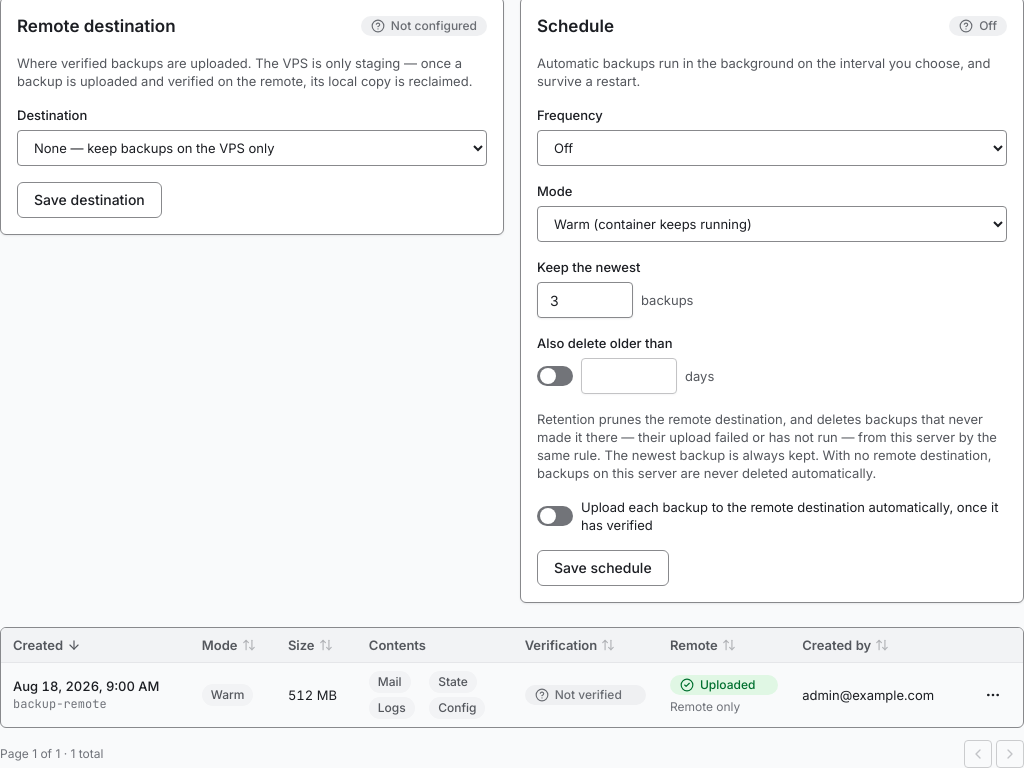
BackupsPage — Delete is tier 3 (§8) › says the remote copy goes too, every version included, for an uploaded backup
(page scrolled)
Check: the text "backup-remote" is shown, box [13,696,107,712]
Click the button named "Actions for backup backup-remote" at (993, 695), box [975,677,1011,713]
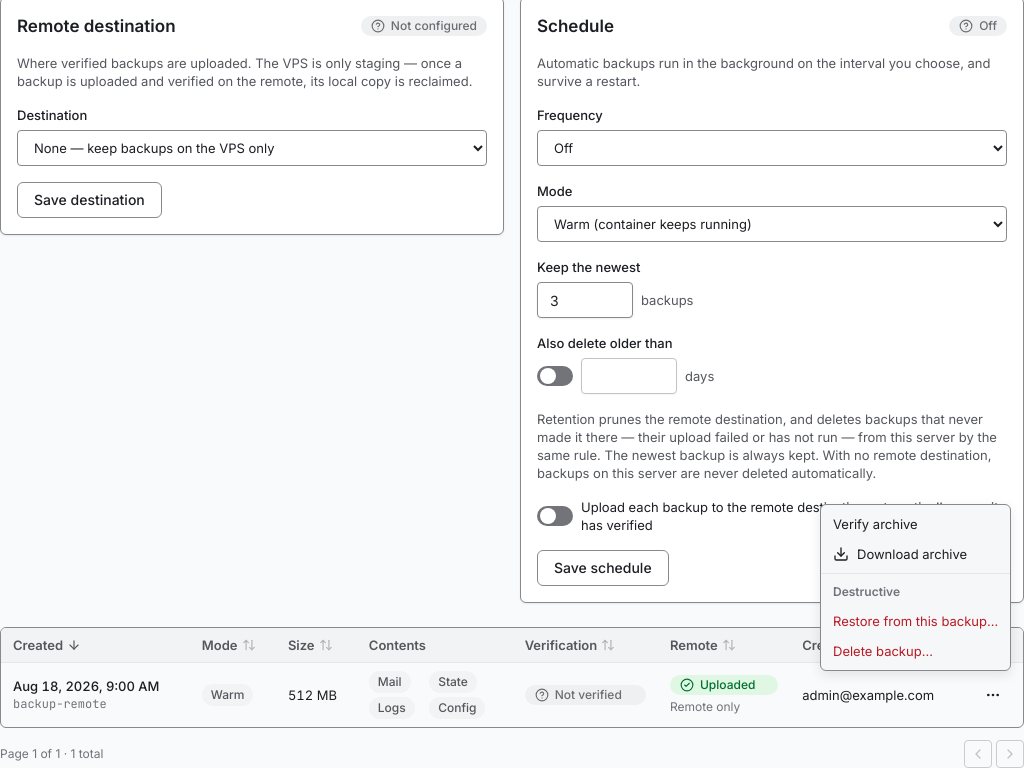
Click the menu item "Delete backup…" at (883, 651), box [833,643,933,659]
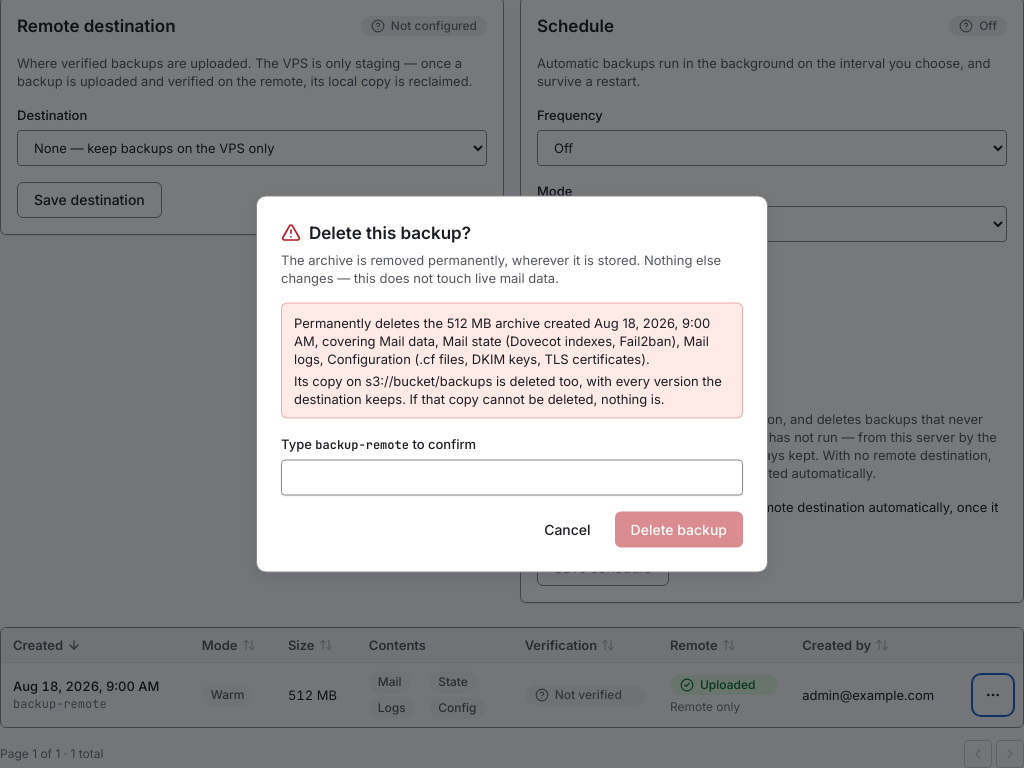
Check: the text "Its copy on s3://bucket/backups is deleted too, with every version" is shown, box [294,372,730,408]
